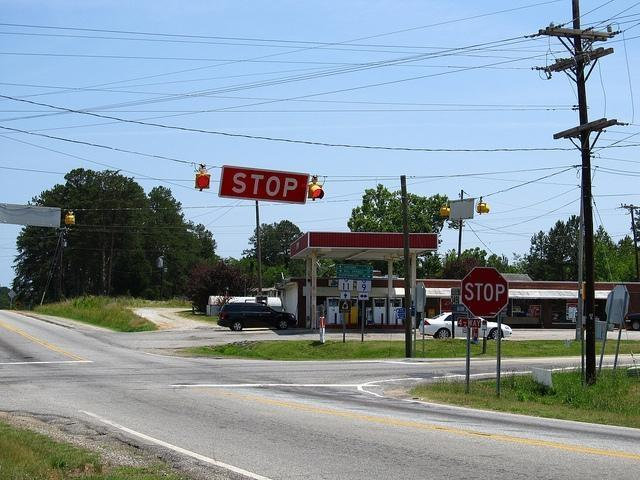car: (423, 313, 512, 340), (217, 304, 296, 331), (625, 312, 640, 331)
